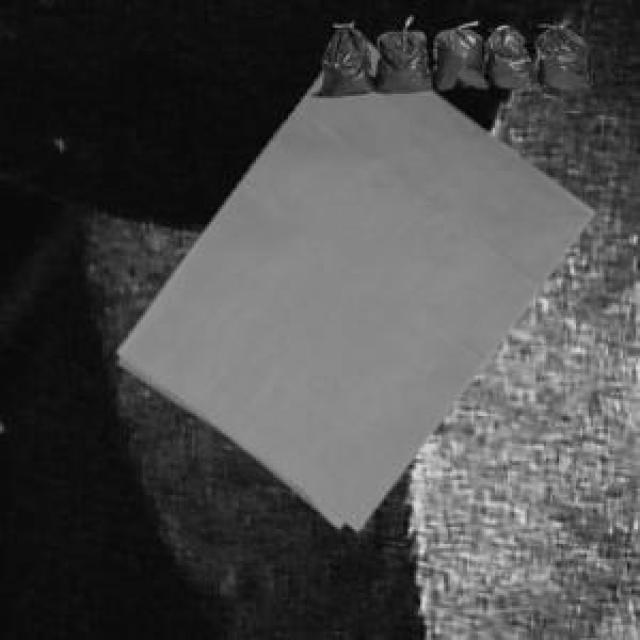miscellaneous trash: (307, 21, 589, 92)
paper: (115, 41, 589, 527)
